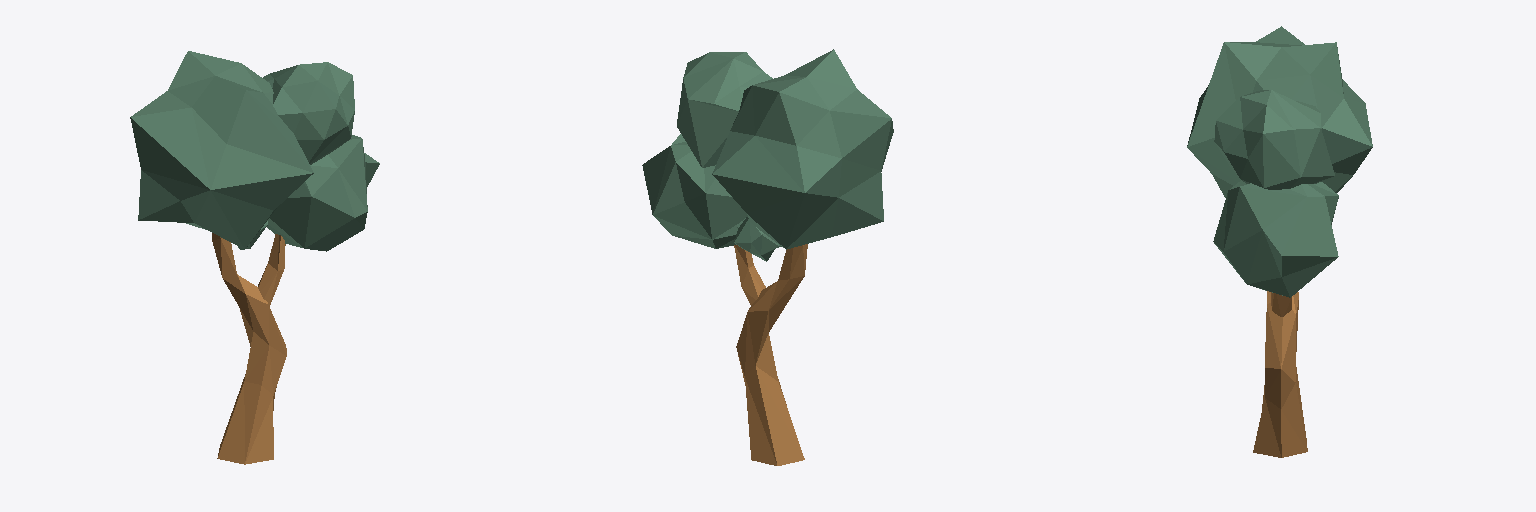
Rendered from tree3.obj.
3 views of the same model, side by side, from view 1: azimuth 30°, elevation 25°; view 2: azimuth 150°, elevation 25°; view 3: azimuth 270°, elevation 25° (orthographic).
Visible parts, largest first — view 1: Leaves_3, Trunk, Leaves_2, Leaves, Trunk_1; view 2: Leaves_3, Trunk, Leaves_2, Leaves, Leaves_1, Trunk_1; view 3: Leaves_3, Leaves_2, Leaves, Trunk.
Part boxes in pixels (x1,y1,x2,y2): Leaves_3: (130,51,313,249); Trunk: (212,233,286,464); Leaves_2: (267,135,379,251); Leaves: (263,62,354,164); Trunk_1: (258,234,285,306); Leaves_3: (712,49,893,249); Trunk: (736,244,807,465); Leaves_2: (642,134,746,248); Leaves: (677,52,772,167); Leaves_1: (734,217,781,261); Trunk_1: (734,245,765,304); Leaves_3: (1187,26,1372,197); Leaves_2: (1213,180,1338,297); Leaves: (1214,90,1334,189); Trunk: (1253,291,1307,457).
Bounding box in the file's own units: 248 × 370 × 160.